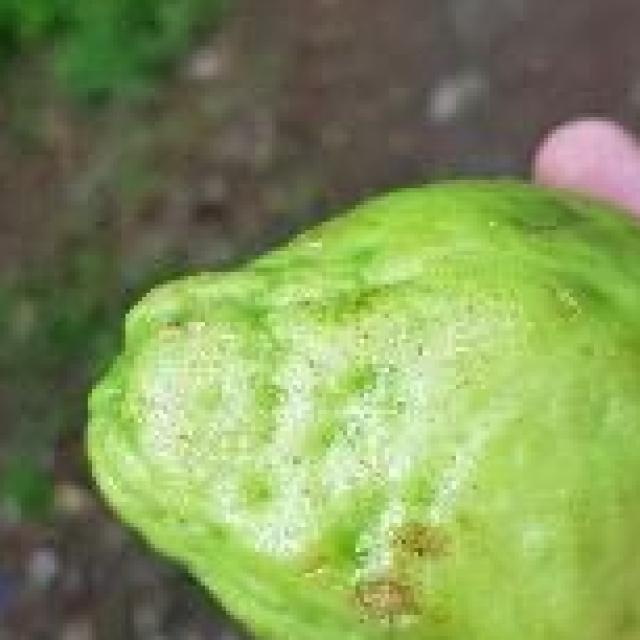Good_Guava 5-7 days: (90, 182, 640, 640)
